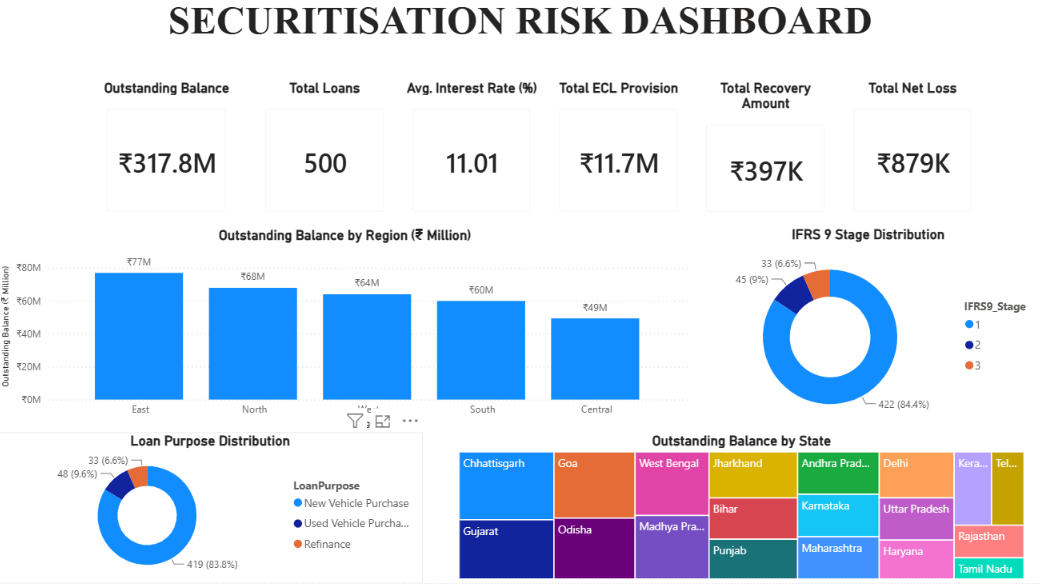

Layout of this report page (visuals, bound fields, positions):
{"tool":"powerbi","page":{"name":"Executive Dashboard","canvas":[1280,720],"ordinal":0},"visuals":[{"type":"textbox","box":[185.9,-0.5,907.3,69.7],"z":0},{"type":"cardVisual","title":"Outstanding Balance","fields":{"Data":["Sum(Loans.CurrentBalance)"]},"box":[117.4,103.5,179.8,179.8],"z":1000},{"type":"cardVisual","title":"Total Loans","fields":{"Data":["Count(Loans.LoanID)"]},"box":[310.6,103.5,179.8,179.8],"z":2000},{"type":"cardVisual","title":"Avg. Interest Rate (%)","fields":{"Data":["Avg(Loans.InterestRate)"]},"box":[490.4,103.5,179.8,179.8],"z":3000},{"type":"cardVisual","title":"Total ECL Provision","fields":{"Data":["Sum(Loans.ECL_Provision)"]},"box":[670.1,103.5,179.8,179.8],"z":4000},{"type":"cardVisual","title":"Total Recovery Amount","fields":{"Data":["Sum(Loans.RecoveryAmount)"]},"box":[849.9,103.5,179.8,179.8],"z":5000},{"type":"cardVisual","title":"Total Net Loss","fields":{"Data":["Sum(Loans.NetLoss)"]},"box":[1029.6,103.5,179.8,179.8],"z":6000},{"type":"clusteredColumnChart","title":"Outstanding Balance by Region (₹ Million)","fields":{"Category":["Loans.Region"],"Y":["Sum(Loans.CurrentBalance)"]},"box":[0,283.2,849.9,251.9],"z":7000},{"type":"donutChart","title":"IFRS 9 Stage Distribution","fields":{"Category":["Loans.IFRS9_Stage"],"Y":["CountNonNull(Loans.LoanID)"]},"box":[849.9,283.7,430.4,251.9],"z":8000},{"type":"donutChart","title":"Loan Purpose Distribution","fields":{"Category":["Loans.LoanPurpose"],"Y":["CountNonNull(Loans.LoanID)"]},"box":[0,535.6,520.9,184.6],"z":9000},{"type":"treemap","title":"Outstanding Balance by State","fields":{"Group":["Loans.State"],"Values":["Sum(Loans.CurrentBalance)"]},"box":[560.1,535.6,700.7,184.6],"z":10000}]}

Visuals, with their boxes in screenshot pixels (x1, y1, x2, y2), scaled from the page's 1280x720 canvas onto the 1042x584 screenshot:
textbox: l=151, t=0, r=890, b=56
"Outstanding Balance" cardVisual: l=96, t=84, r=242, b=230
"Total Loans" cardVisual: l=253, t=84, r=399, b=230
"Avg. Interest Rate (%)" cardVisual: l=399, t=84, r=546, b=230
"Total ECL Provision" cardVisual: l=546, t=84, r=692, b=230
"Total Recovery Amount" cardVisual: l=692, t=84, r=838, b=230
"Total Net Loss" cardVisual: l=838, t=84, r=985, b=230
"Outstanding Balance by Region (₹ Million)" clusteredColumnChart: l=0, t=230, r=692, b=434
"IFRS 9 Stage Distribution" donutChart: l=692, t=230, r=1041, b=434
"Loan Purpose Distribution" donutChart: l=0, t=434, r=424, b=583
"Outstanding Balance by State" treemap: l=456, t=434, r=1026, b=583
